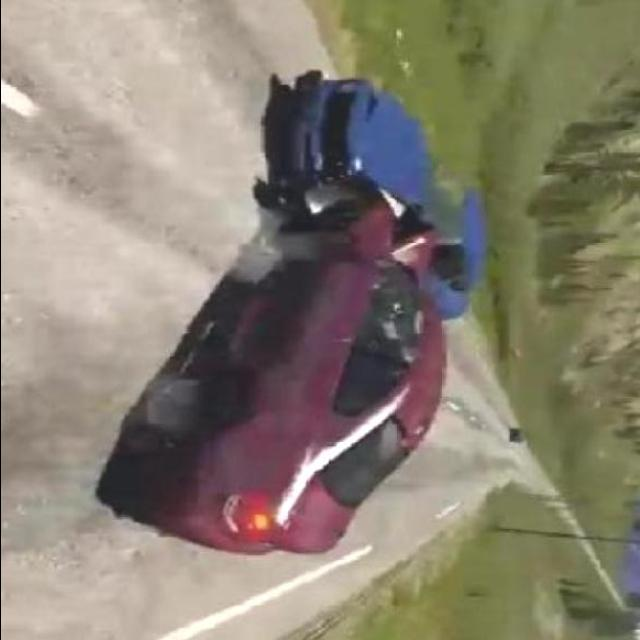accident: (223, 118, 466, 402)
